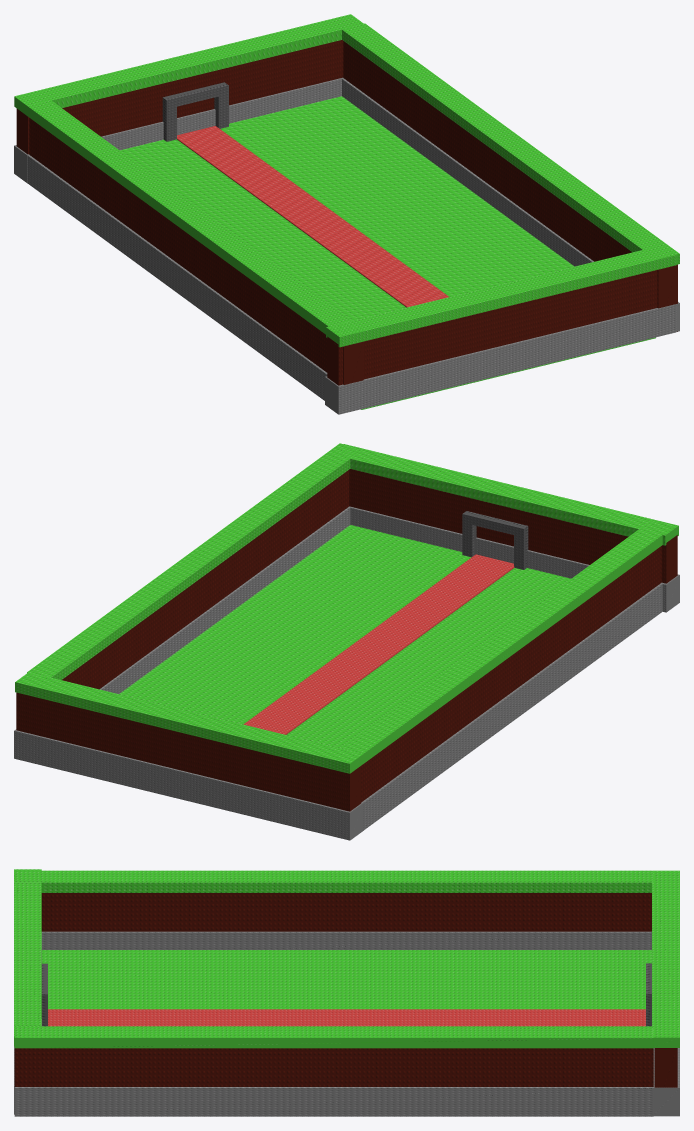
Rendered from brainrotmap.glb.
3 renders of one model, top to bottom at view 1: azimuth 30°, elevation 25°; view 2: azimuth 150°, elevation 25°; view 3: azimuth 270°, elevation 25°, orthographic. The views are drawn at different scales.
Parts seen in each view (by area): view 1: Map; view 2: Map; view 3: Map.
Boxes of the visible parts, x1,y1,x2,y2 form: Map: (14,14,679,414); Map: (14,443,679,840); Map: (14,869,679,1116).
Bounding box in the file's own units: 3.21 × 0.7058 × 5.34.
6 materials, 5 textured.
